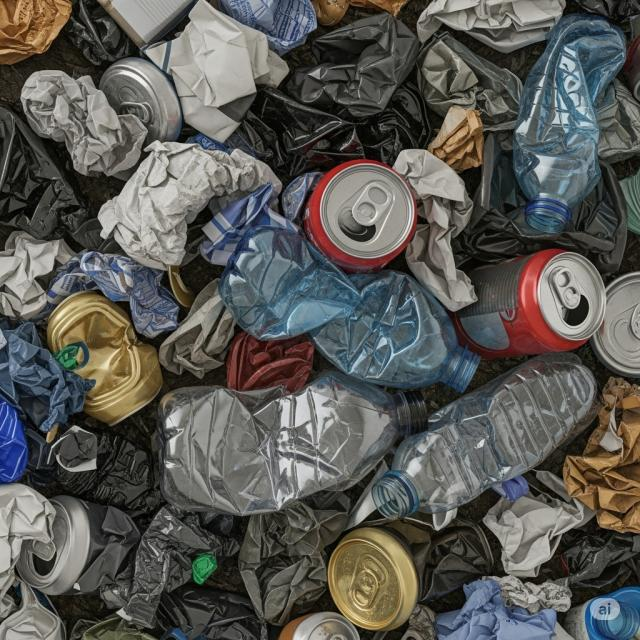aluminum: (452, 248, 608, 358), (43, 292, 167, 427), (305, 156, 417, 270)
paper: (86, 138, 285, 272), (151, 0, 289, 141), (20, 68, 146, 176)
plastic: (372, 347, 600, 522), (161, 372, 422, 519), (514, 10, 630, 239)
